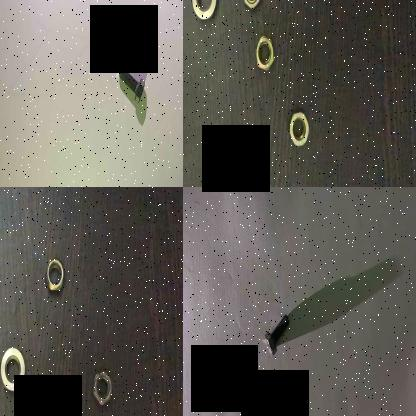Bolts: (115, 62, 148, 104), (260, 312, 291, 356)
NUTS: (0, 341, 29, 397), (287, 101, 310, 152), (41, 252, 66, 295), (90, 365, 113, 411), (252, 31, 274, 78), (186, 0, 219, 25), (239, 0, 261, 12)
